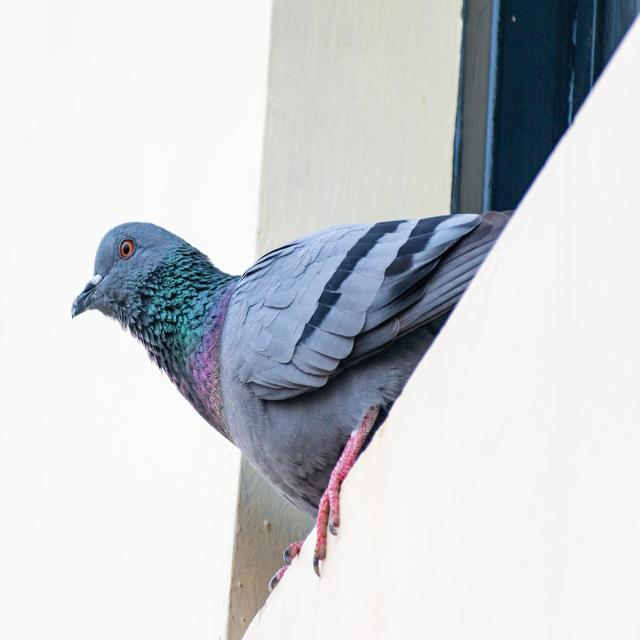pegion: (43, 159, 566, 512)
